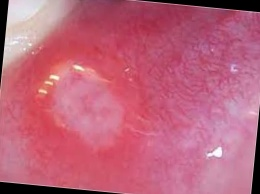Ulcer: (39, 61, 133, 158)
